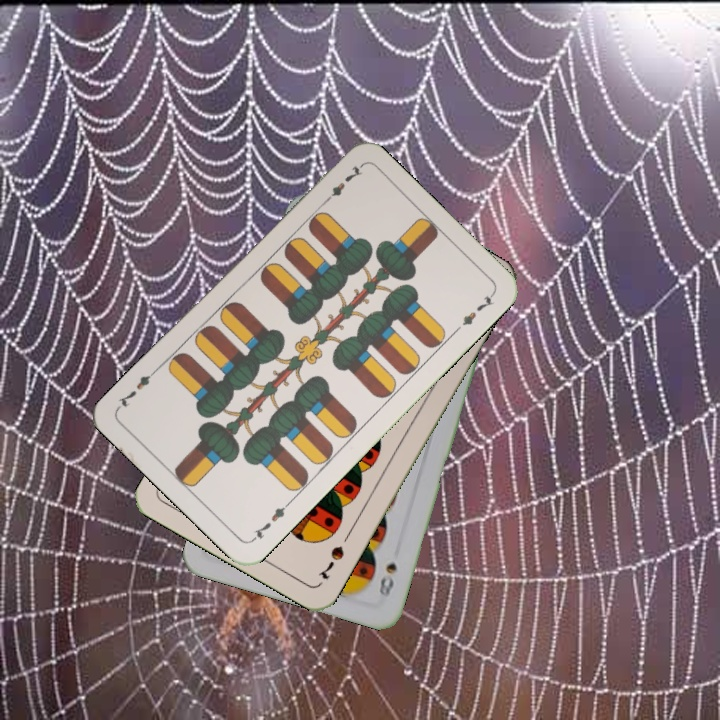E7: (247, 497, 293, 544), (318, 161, 365, 207)
S7: (314, 541, 347, 582)
S8: (375, 558, 400, 600)
